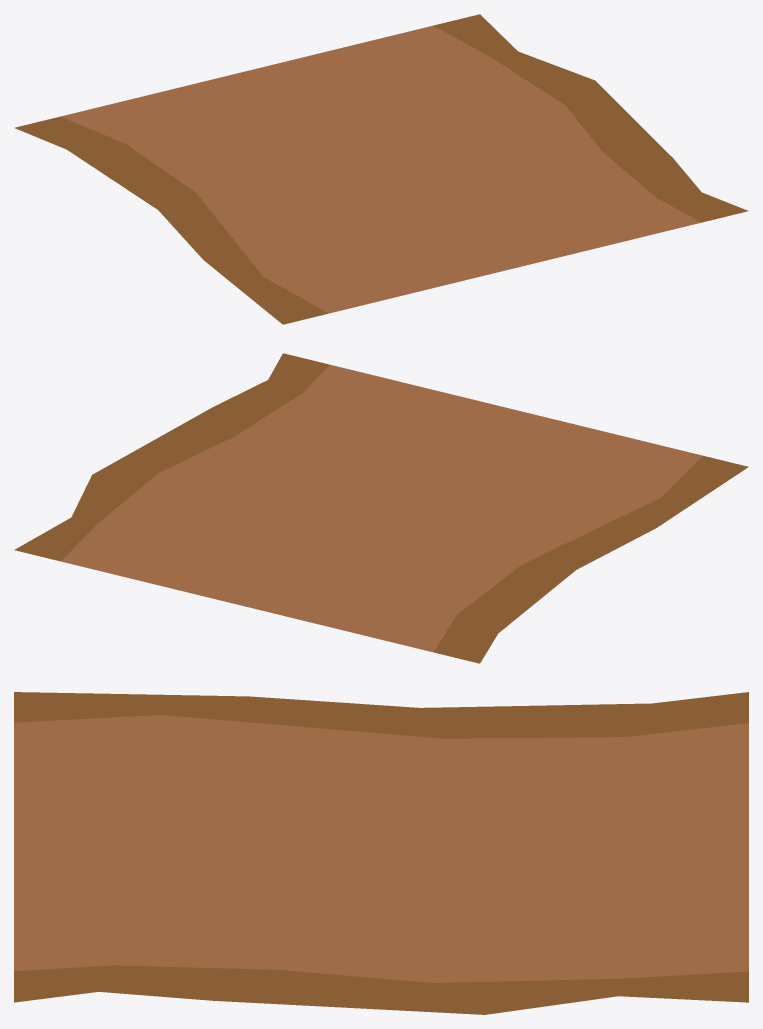
The model's file is dirt_road_3.fbx.
3 views of the same model, one above another, from view 1: azimuth 30°, elevation 25°; view 2: azimuth 150°, elevation 25°; view 3: azimuth 270°, elevation 25° (orthographic). The views are drawn at different scales.
Visible parts, largest first — view 1: dirt_road_3; view 2: dirt_road_3; view 3: dirt_road_3.
Part boxes in pixels (box(x1,y1,x2,y2)): dirt_road_3: box(14, 14, 748, 324); dirt_road_3: box(14, 353, 748, 663); dirt_road_3: box(14, 692, 748, 1014).
Bounding box in the file's own units: 104 × 1.63e-05 × 100.
